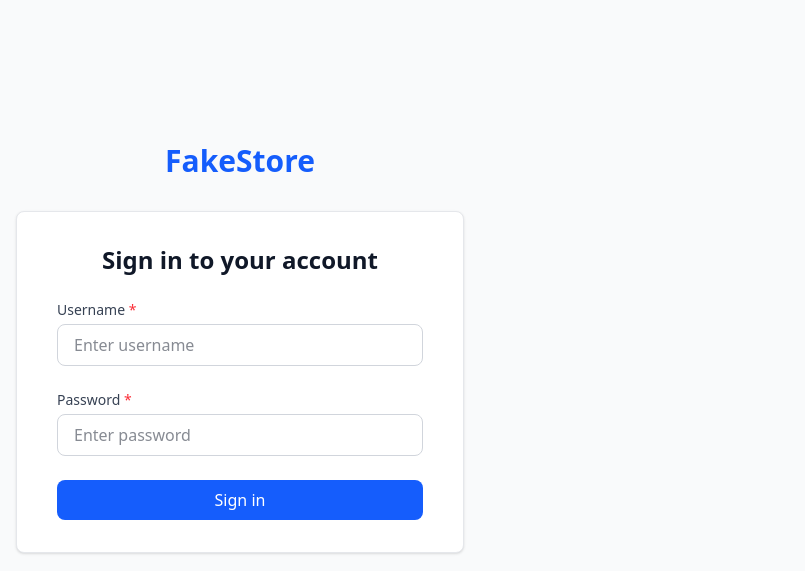
Test: Authentication › should show error on invalid credentials
Type "wronguser" into the field with placeholder "Enter username" at (240, 345), box [57,324,423,366]
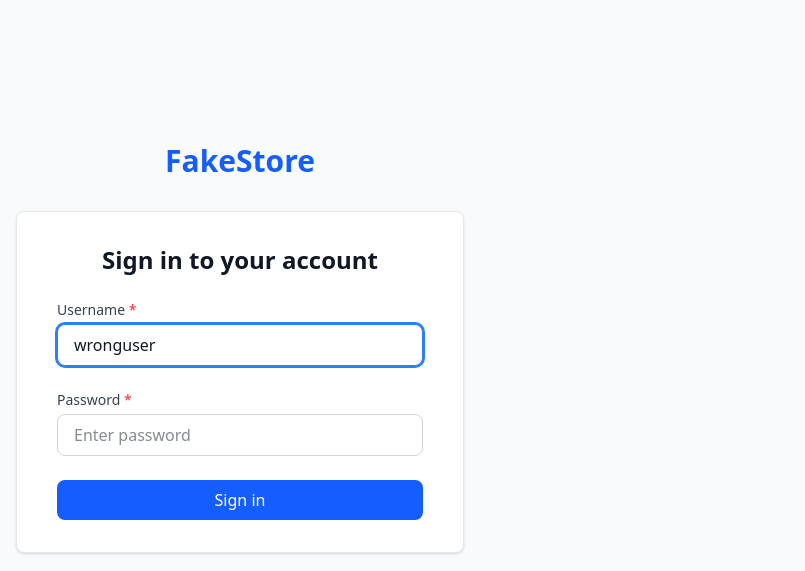
Type "wrongpass" into the password field with placeholder "Enter password" at (240, 435), box [57,414,423,456]
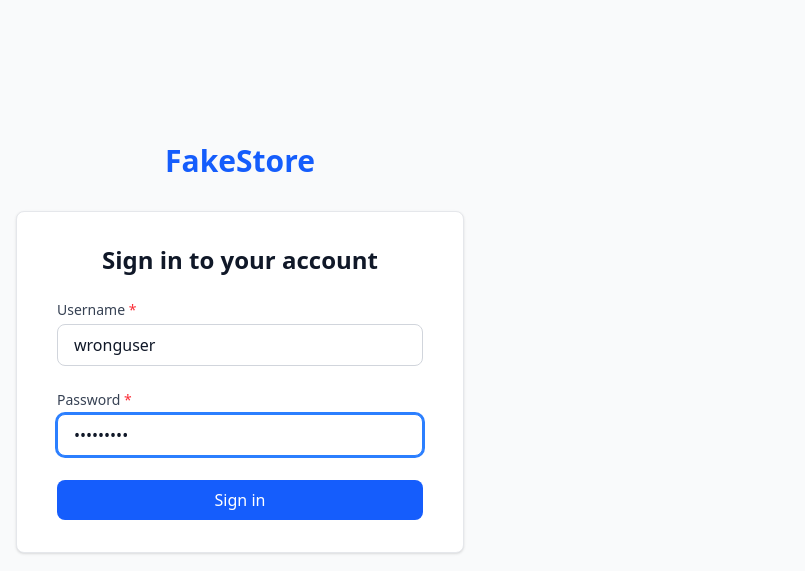
Click the submit button at (240, 500), box [57,480,423,520]
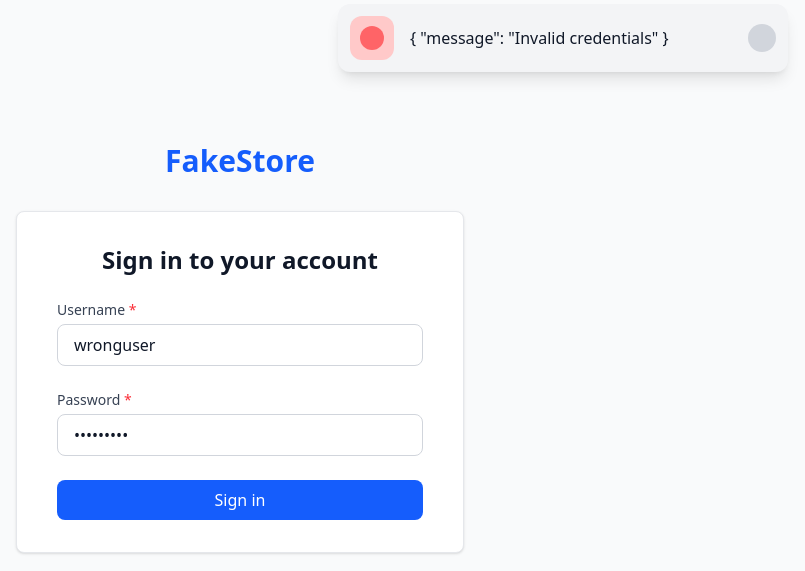
Now the text "Invalid" is shown, box [410,27,669,49]
